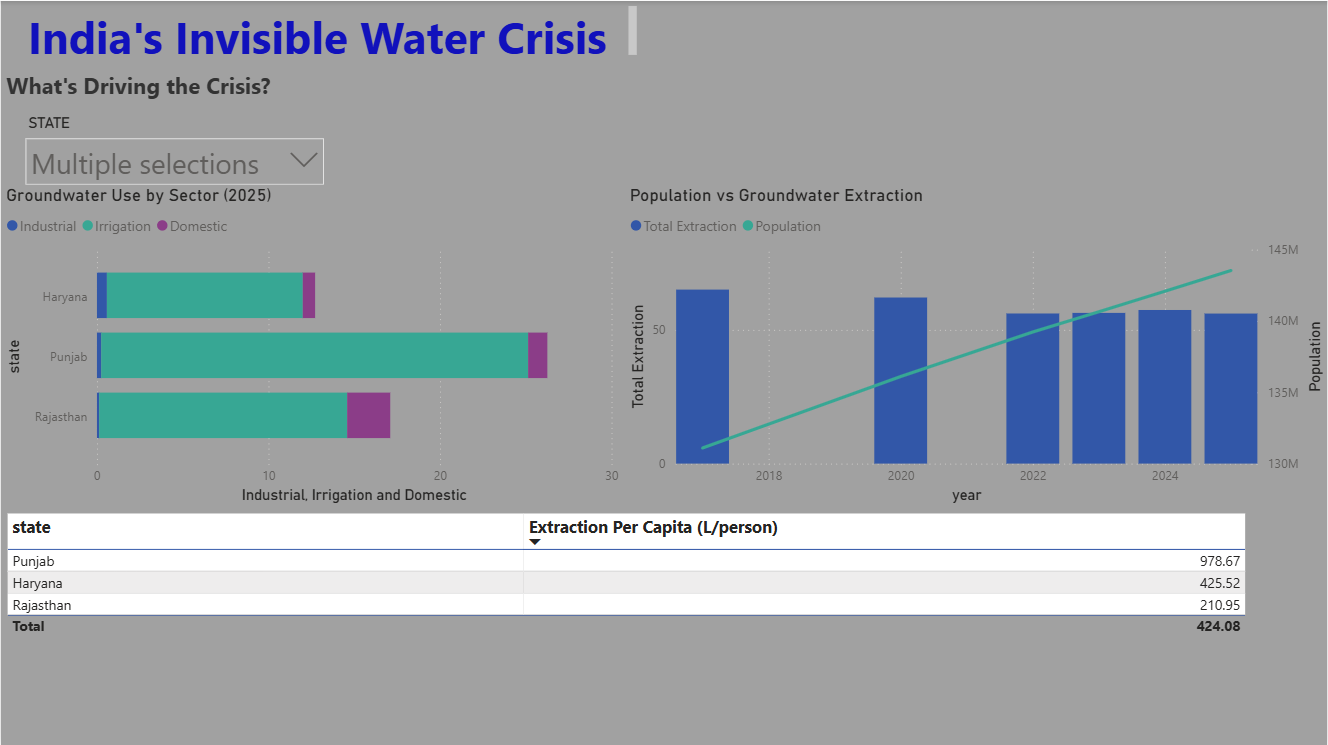

What the dashboard file says about the page in this screenshot:
{"tool":"powerbi","page":{"name":"Drivers","canvas":[1280,720],"ordinal":1},"visuals":[{"type":"textbox","box":[0,0,618.6,61.4],"z":0},{"type":"textbox","box":[0,61.4,1087.1,42.9],"z":1000},{"type":"slicer","fields":{"Values":["public groundwater.state"]},"box":[13.7,103.8,308.3,73.2],"z":2000},{"type":"barChart","title":"Groundwater Use by Sector (2025)","fields":{"Y":["Sum(public groundwater.industrial)","Sum(public groundwater.irrigation)","Sum(public groundwater.domestic)"],"Category":["public groundwater.state"]},"box":[0,177.1,601.4,312.9],"z":3000},{"type":"lineClusteredColumnComboChart","title":"Population vs Groundwater Extraction","fields":{"Category":["public groundwater.year"],"Y":["Sum(public groundwater.total_extraction)"],"Y2":["Sum(public population.population)"]},"box":[601.4,177.1,678.6,312.9],"z":4000},{"type":"tableEx","fields":{"Values":["public population.state","public groundwater.Extraction Per Capita Litres"]},"box":[0,489.9,1280.3,230.5],"z":5000}]}

Visuals, with their boxes in screenshot pixels (x1, y1, x2, y2), scaled from the page's 1280x720 canvas onto the 1328x745 screenshot:
textbox: 0:0:642:64
textbox: 0:64:1128:108
slicer - public groundwater.state: 14:107:334:183
"Groundwater Use by Sector (2025)" barChart: 0:183:624:507
"Population vs Groundwater Extraction" lineClusteredColumnComboChart: 624:183:1327:507
tableEx - public population.state x public groundwater.Extraction Per Capita Litres: 0:507:1327:744
